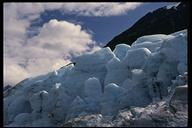cloud: (7, 6, 86, 53)
ice: (87, 34, 183, 95)
mountain: (4, 5, 186, 123)
sky: (7, 5, 128, 27)
